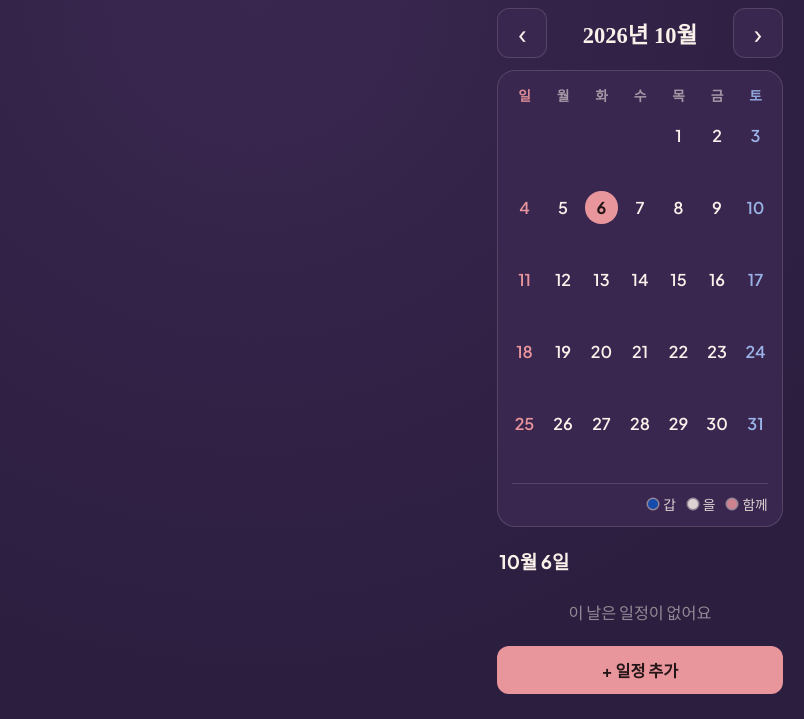
Test case: Calendar › moves between months, across the year end, and comes back on the month name
What coordinates should you click on to do the following:
click the button named "다음 달"
I would click on:
 (758, 33)
Its box is [733,8,783,58].
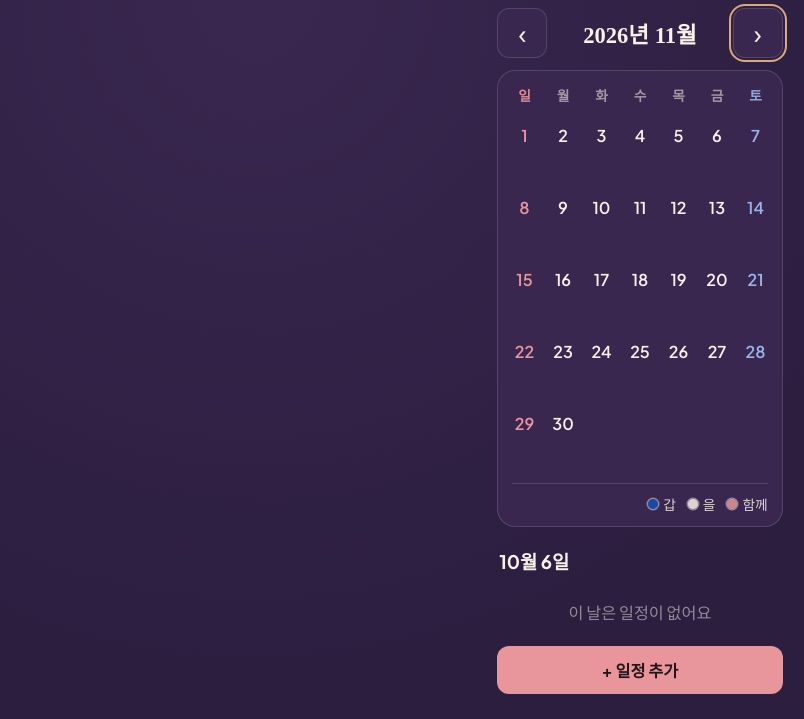
What coordinates should you click on to do the following:
click the button named "다음 달"
I would click on:
 (758, 33)
Its box is [733,8,783,58].
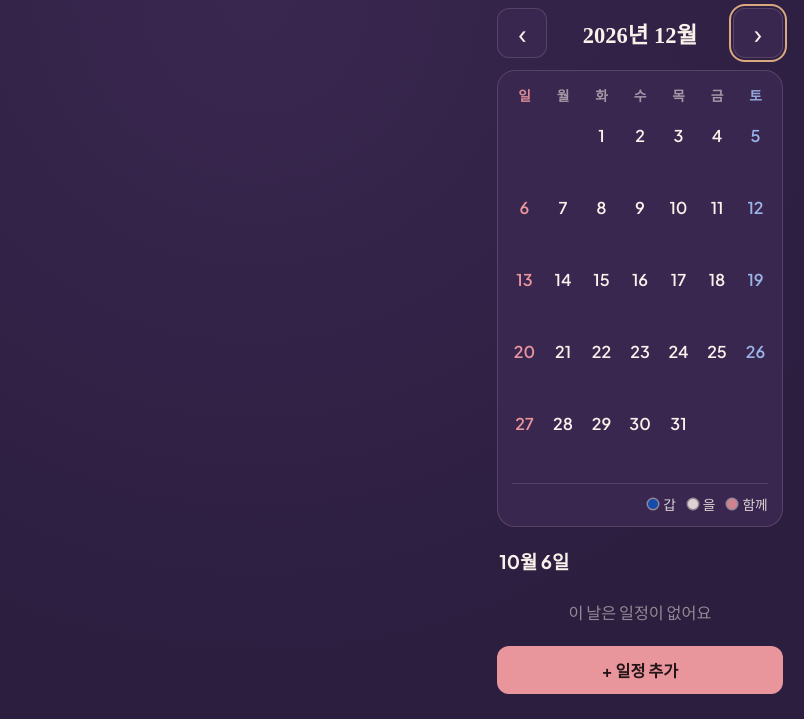
What coordinates should you click on to do the following:
click the button named "다음 달"
I would click on:
 (758, 33)
Its box is [733,8,783,58].
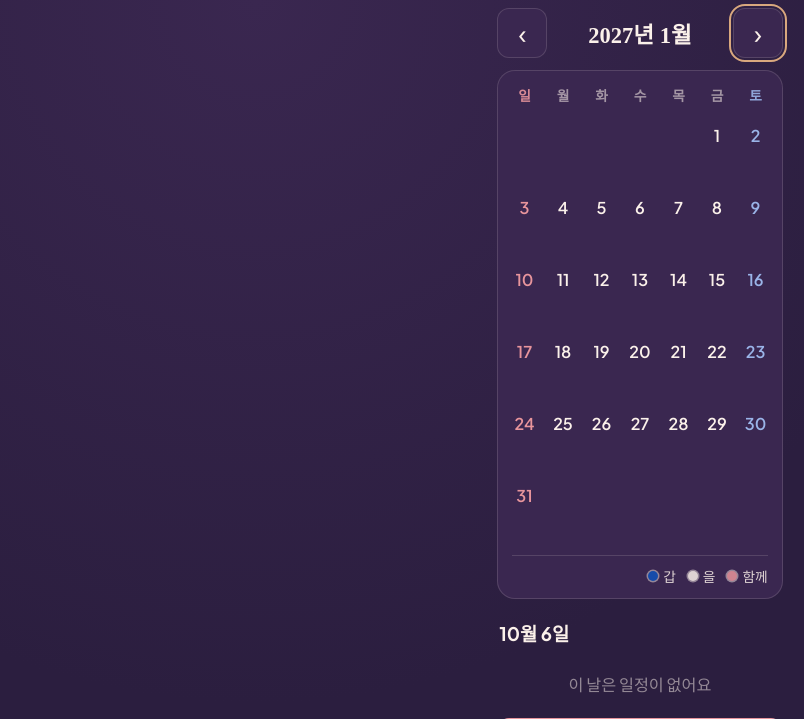
Check: the button "2027년 1월" is shown, box [576,11,704,55]
What coordinates should you click on to do the following:
click the button named "이전 달"
I would click on:
 (522, 33)
Its box is [497,8,547,58].
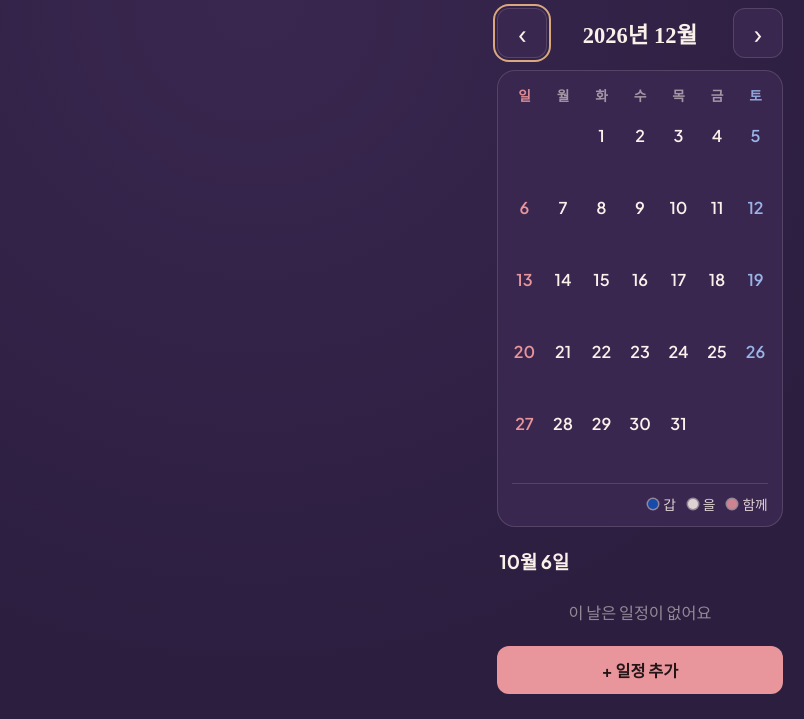
Check: the button "2026년 12월" is shown, box [571,11,709,55]
What coordinates should you click on to do the following:
click the button named "12월 25일"
I would click on:
 (717, 366)
Its box is [699,331,735,401].
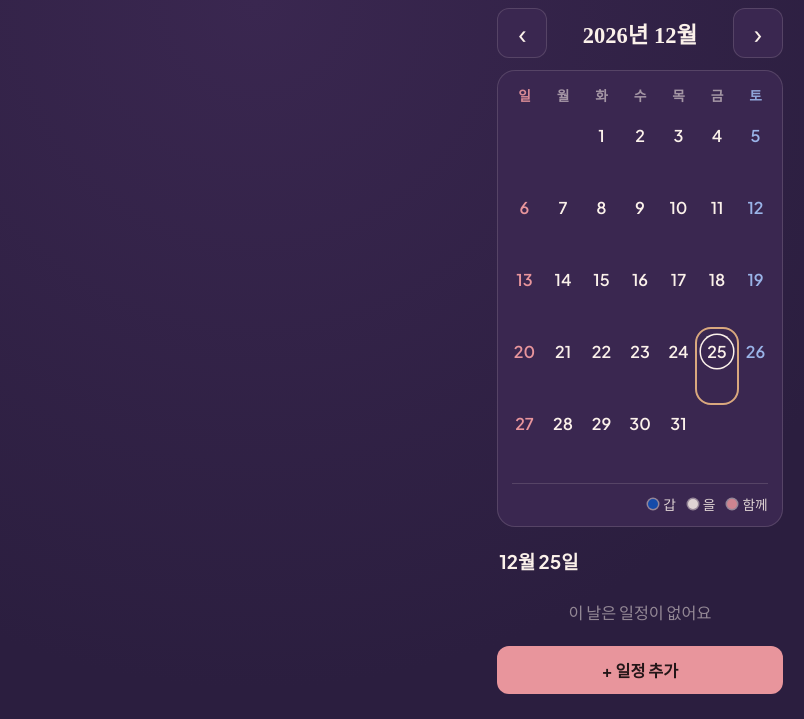
What coordinates should you click on to do the following:
click the button "2026년 12월"
I would click on:
 (640, 33)
Its box is [571,11,709,55].
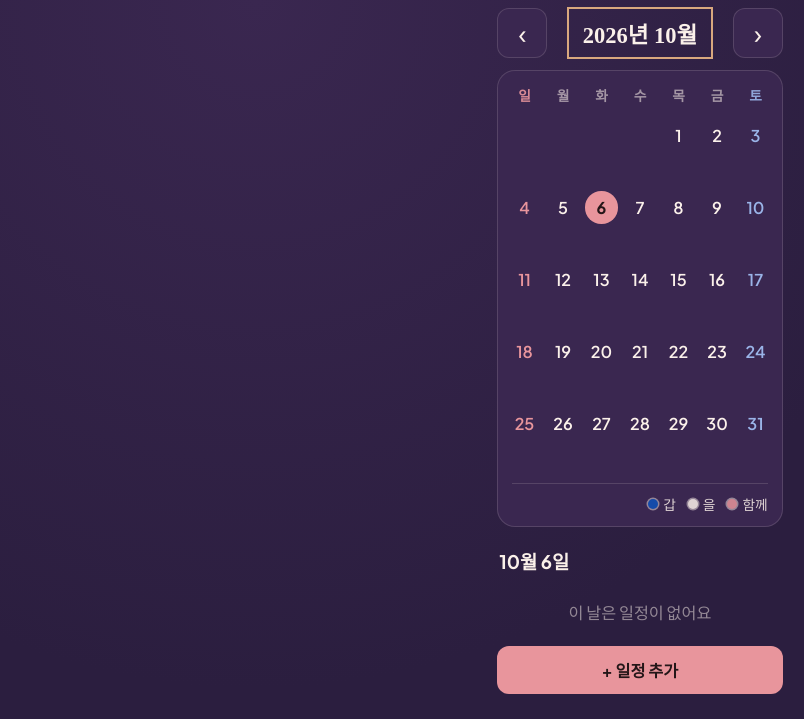
Check: the button "2026년 10월" is shown, box [571,11,709,55]
